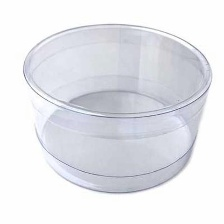plastic_box: (17, 16, 218, 199)
